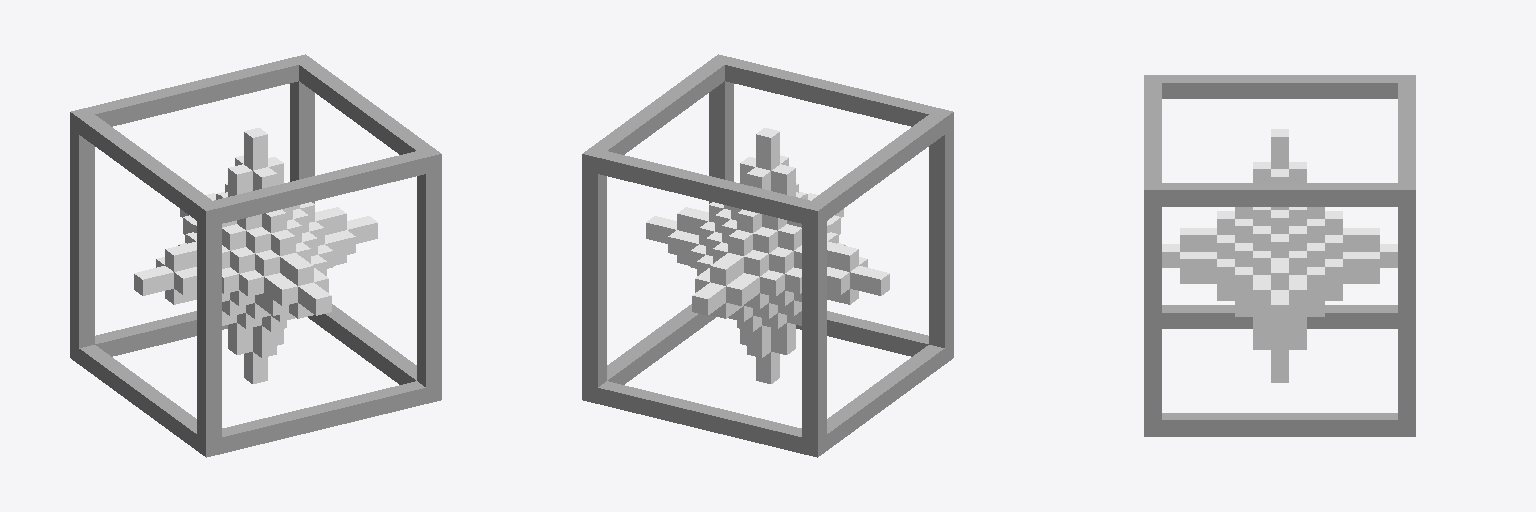
3 renders of one model, left to right at view 1: azimuth 30°, elevation 25°; view 2: azimuth 150°, elevation 25°; view 3: azimuth 270°, elevation 25°, orthographic.
Parts seen in each view (by area): view 1: object 1; view 2: object 1; view 3: object 1.
Part boxes in pixels (bbox=[...]): object 1: bbox=[70, 54, 441, 457]; object 1: bbox=[582, 54, 953, 457]; object 1: bbox=[1144, 75, 1415, 436].
Size of the model in its own units: 1.5 by 1.5 by 1.5.
Materials: 1 (1 with a texture image).